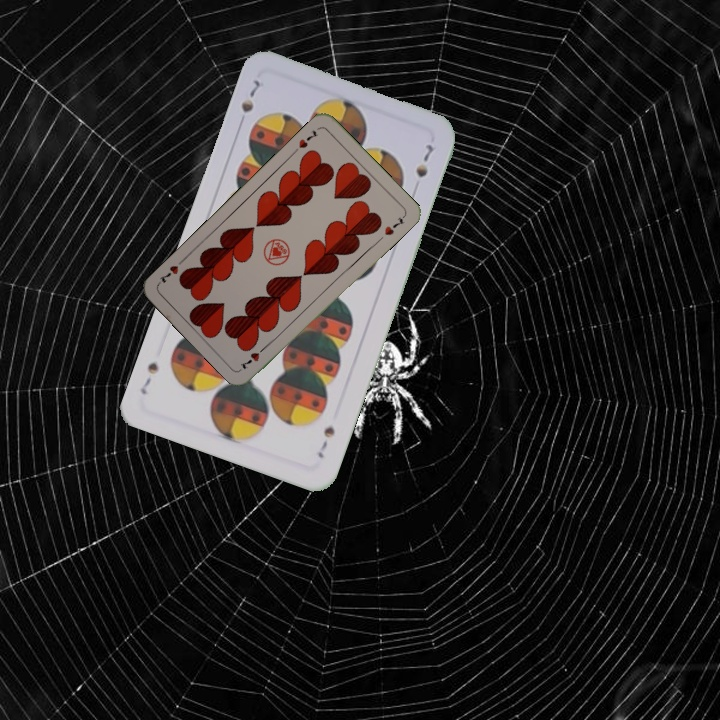H7: (237, 341, 270, 372), (289, 126, 321, 156)
S7: (237, 75, 267, 116), (313, 422, 338, 461)
